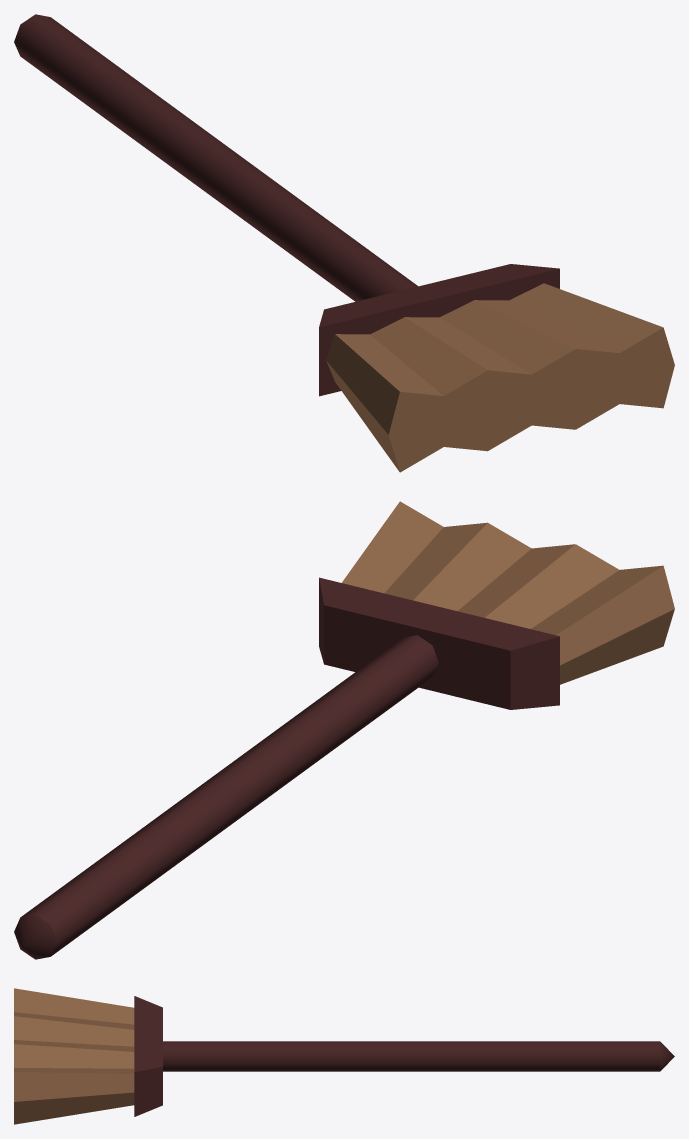
File: Rubbish5.fbx
The picture shows the model from 3 angles, top to bottom: view 1: azimuth 30°, elevation 25°; view 2: azimuth 150°, elevation 25°; view 3: azimuth 270°, elevation 25°; orthographic projection. The views are drawn at different scales.
Parts seen in each view (by area): view 1: Broom; view 2: Broom; view 3: Broom.
Part boxes in pixels (bbox=[...]): Broom: bbox=[14, 14, 674, 472]; Broom: bbox=[14, 501, 674, 959]; Broom: bbox=[14, 988, 674, 1124].
Bounding box in the file's own units: 80.38 × 21.7 × 247.
